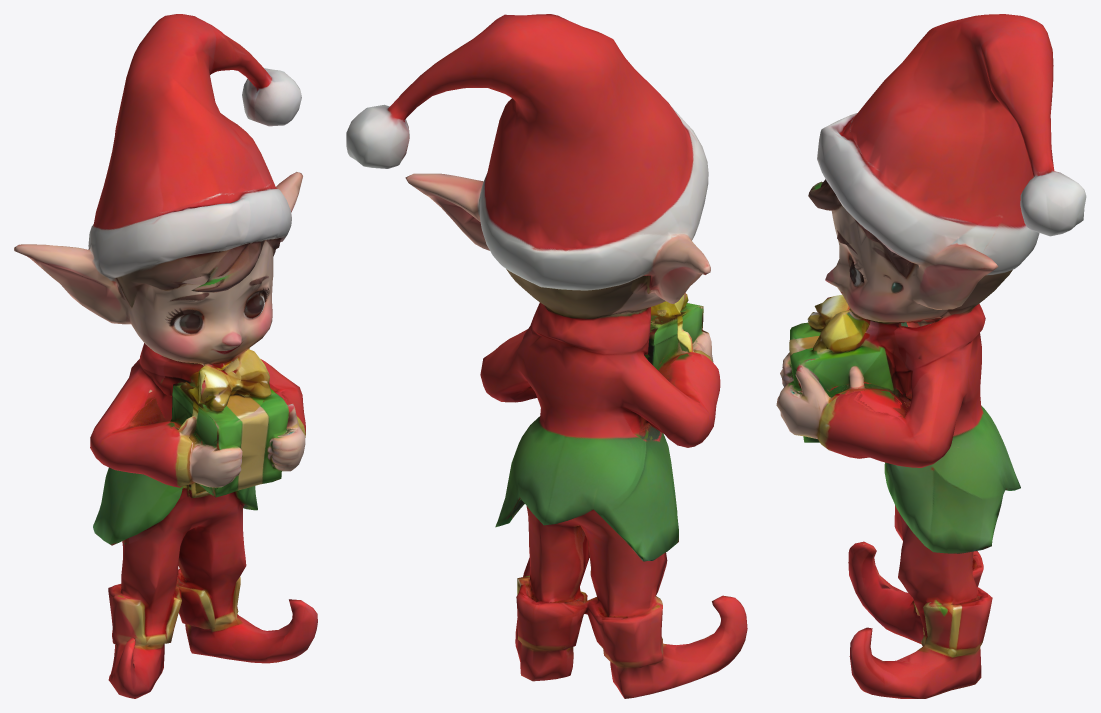
The model's file is Low_poly_3D_Christmas_0831141123_texture.fbx.
The picture shows the model from 3 angles, left to right: view 1: azimuth 30°, elevation 25°; view 2: azimuth 150°, elevation 25°; view 3: azimuth 270°, elevation 25°; orthographic projection. The views are drawn at different scales.
Visible parts, largest first — view 1: input; view 2: input; view 3: input.
Part boxes in pixels (x1,y1,x2,y2): input: [14, 14, 317, 698]; input: [346, 14, 747, 698]; input: [776, 14, 1086, 698].
Bounding box in the file's own units: 104 × 199 × 85.16.
1 material, 1 textured.
